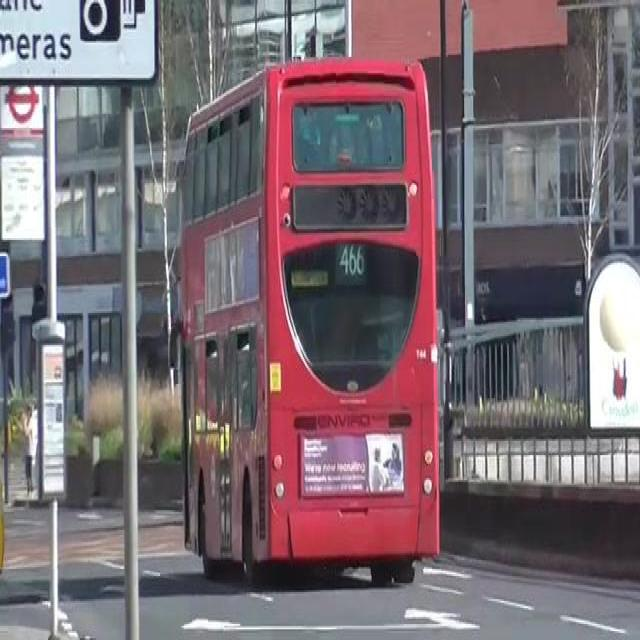motorcycle: (164, 55, 447, 580)
